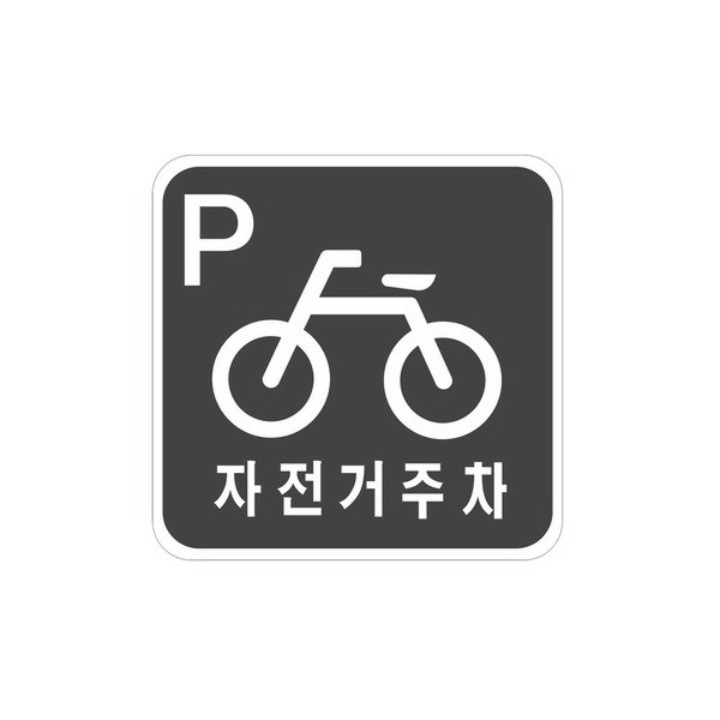bicycle: (197, 239, 521, 451)
